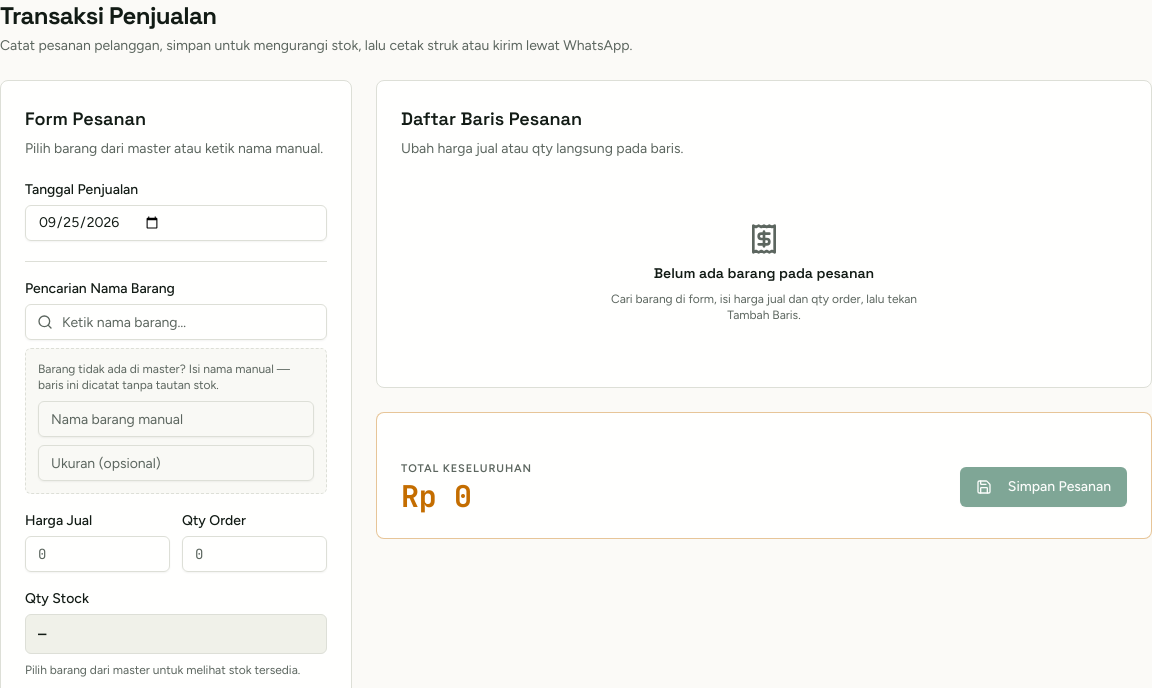
Test: PenjualanPage › saves an order, decrements master stock, and shows the receipt
In the field with test id "penjualan.search_input": (176, 322) [25,304,327,340], type "buku"
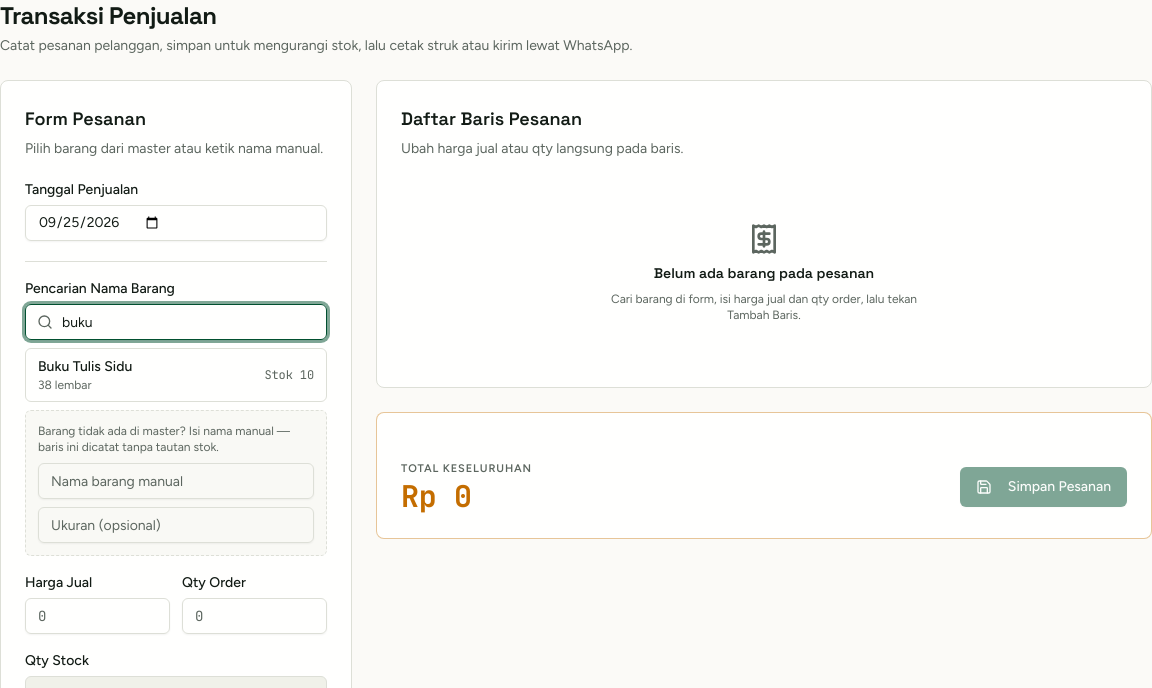
Click the button with test id "penjualan.search_result.1": (85, 366) [26,349,326,401]
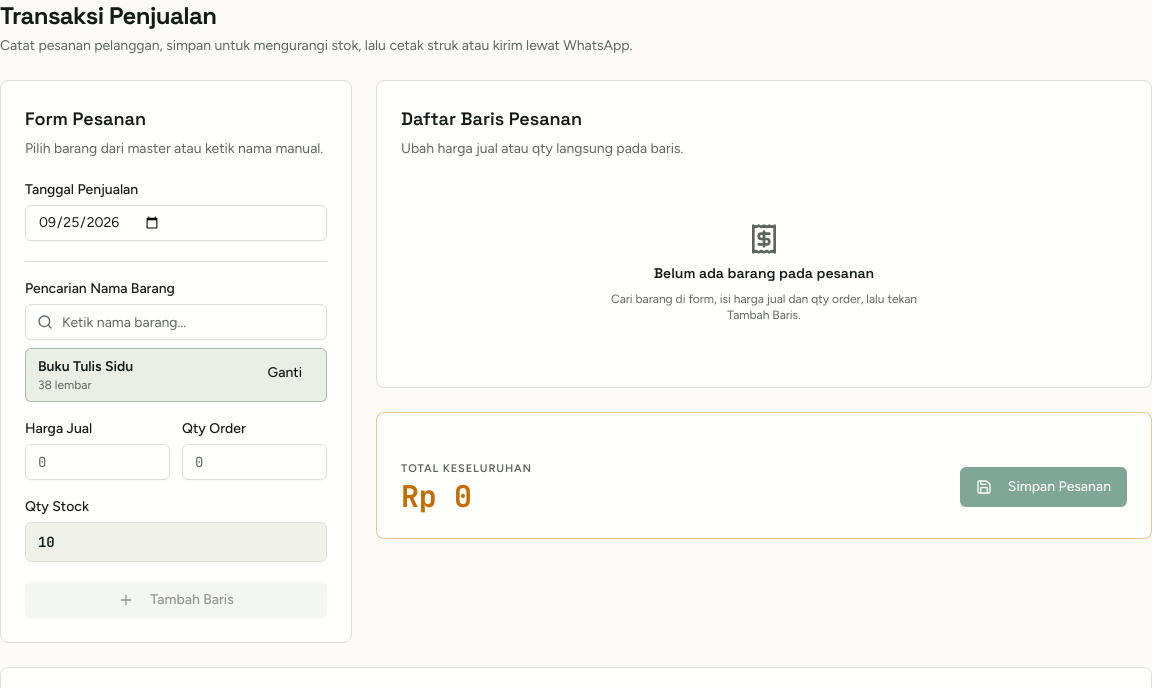
In the field with test id "penjualan.harga_jual_input": (98, 462) [25,444,170,480], type "5000"
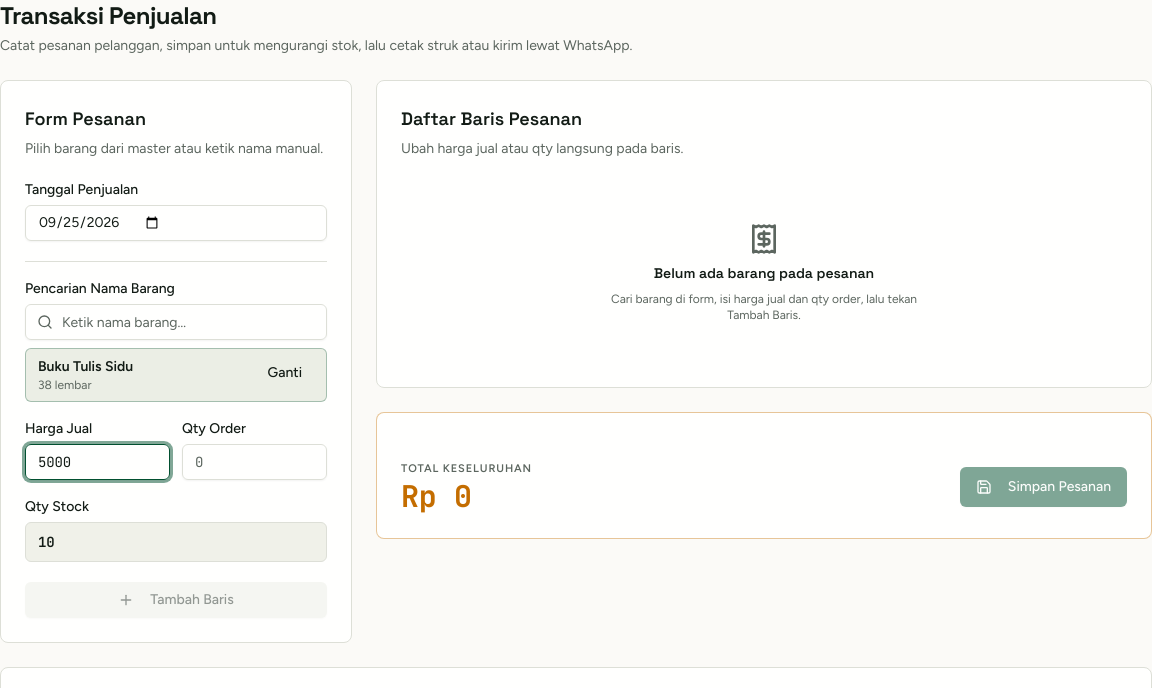
In the field with test id "penjualan.qty_order_input": (254, 462) [182,444,327,480], type "4"
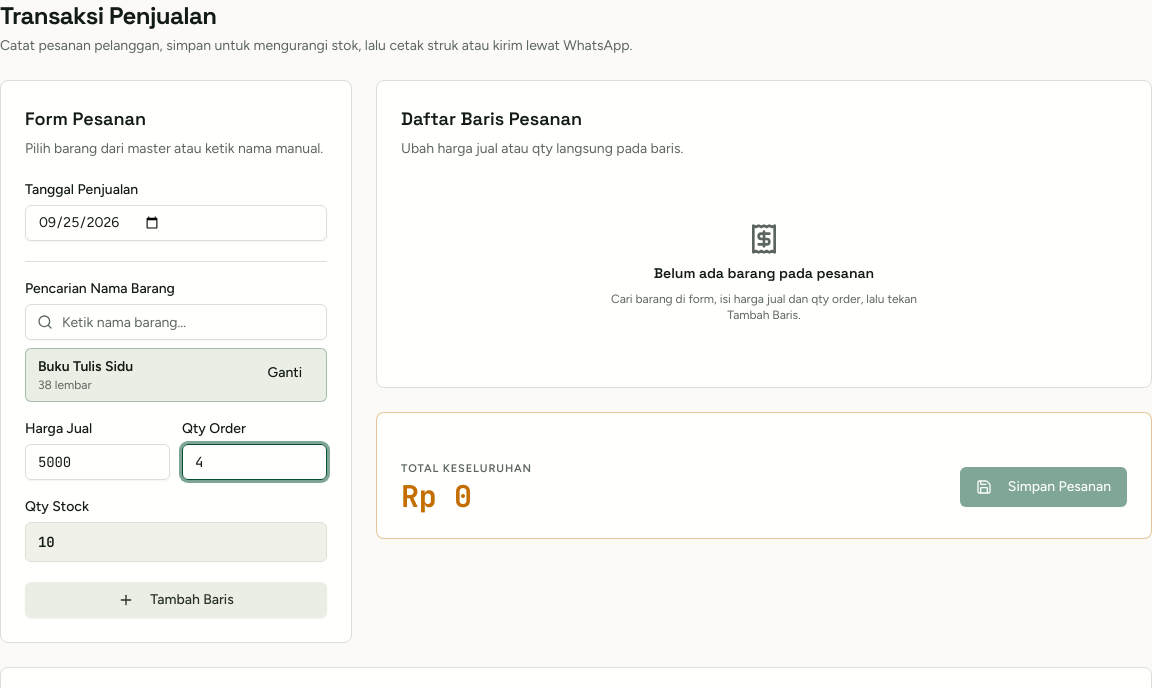
Click the button with test id "penjualan.add_line_button": (176, 600) [25,582,327,618]
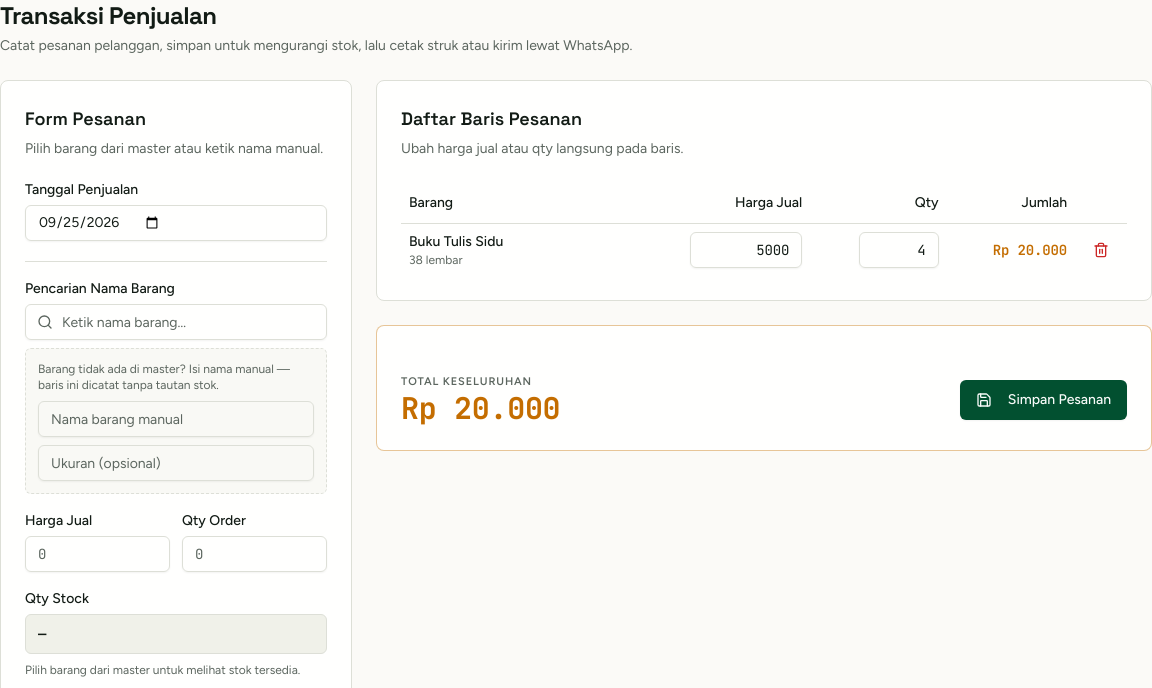
Result: the row with test id "penjualan.line.1" is shown at [401,223,1127,276]
Click the button with test id "penjualan.save_button": (1043, 400) [960,380,1127,420]
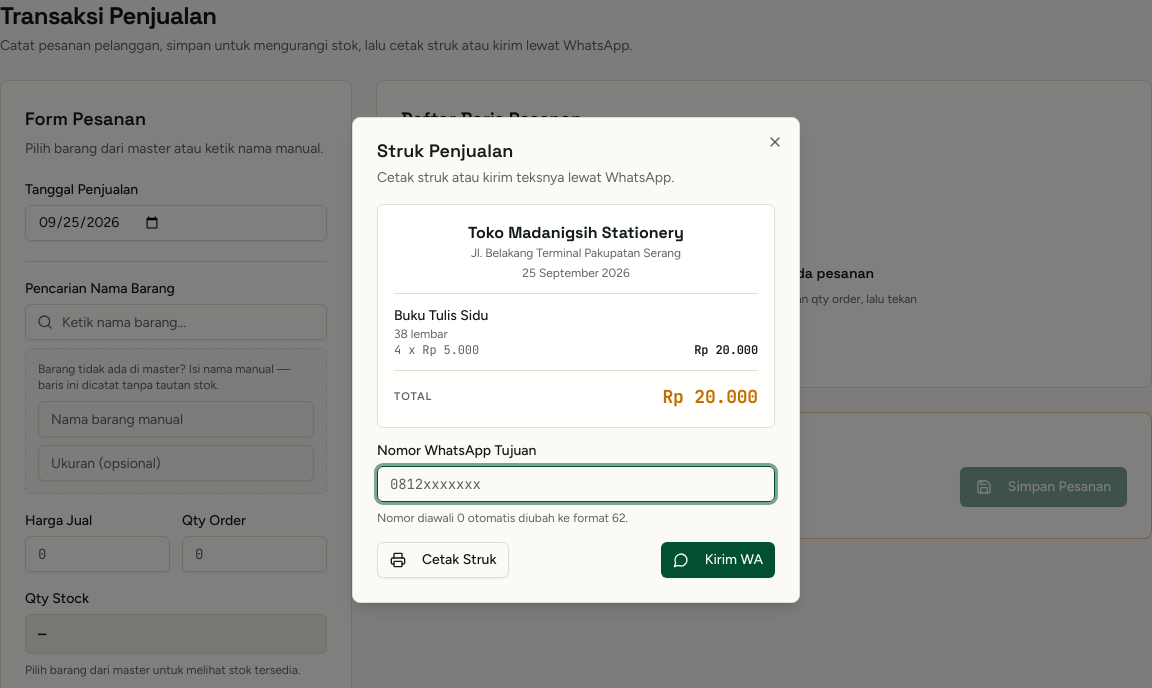
Result: the element with test id "penjualan.receipt_print_area" shows "Toko Madanigsih Stationery" at [468,222,684,243]
Result: the element with test id "penjualan.receipt_print_area" shows "Jl. Belakang Terminal Pakupatan Serang" at [471,246,681,260]
Result: the element with test id "penjualan.receipt_print_area" shows "Buku Tulis Sidu" at [394,307,488,324]
